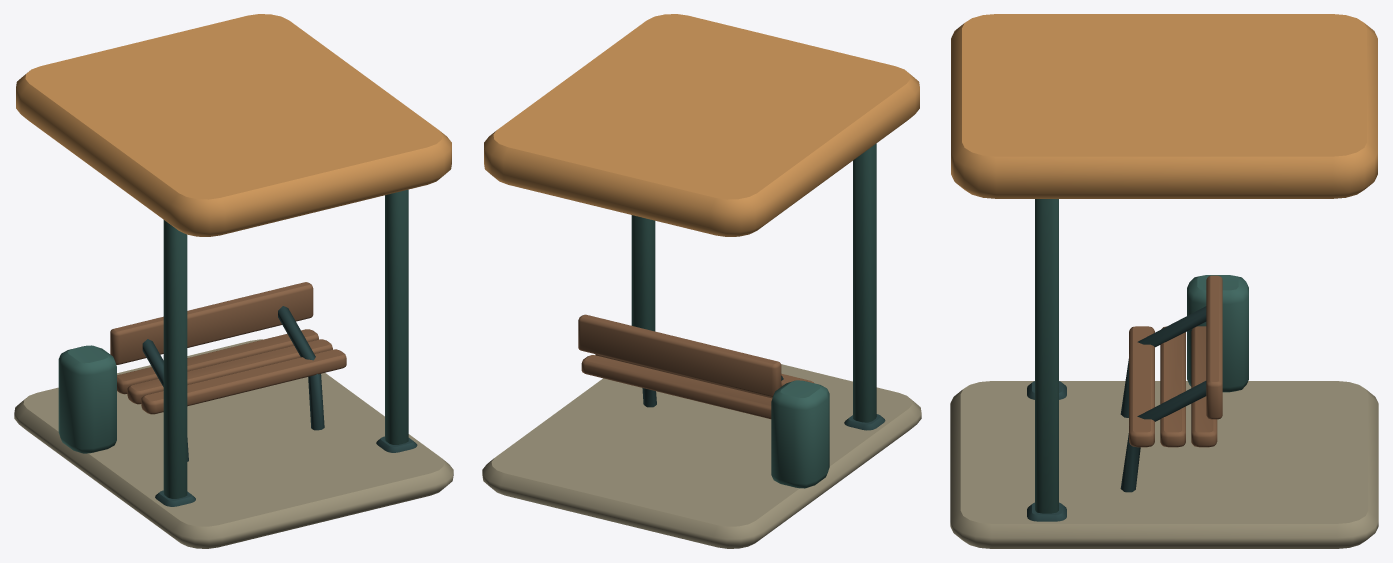
File: annex_parking_3.glb
3 renders of one model, left to right at view 1: azimuth 30°, elevation 25°; view 2: azimuth 150°, elevation 25°; view 3: azimuth 270°, elevation 25°, orthographic. The views are drawn at different scales.
Parts seen in each view (by area): view 1: AnnexParking3; view 2: AnnexParking3; view 3: AnnexParking3.
Part boxes in pixels (<box>): AnnexParking3: <box>14,14,453,548</box>; AnnexParking3: <box>482,14,921,548</box>; AnnexParking3: <box>950,14,1378,548</box>.
Size of the model in its own units: 2.12 by 2.51 by 2.48.
